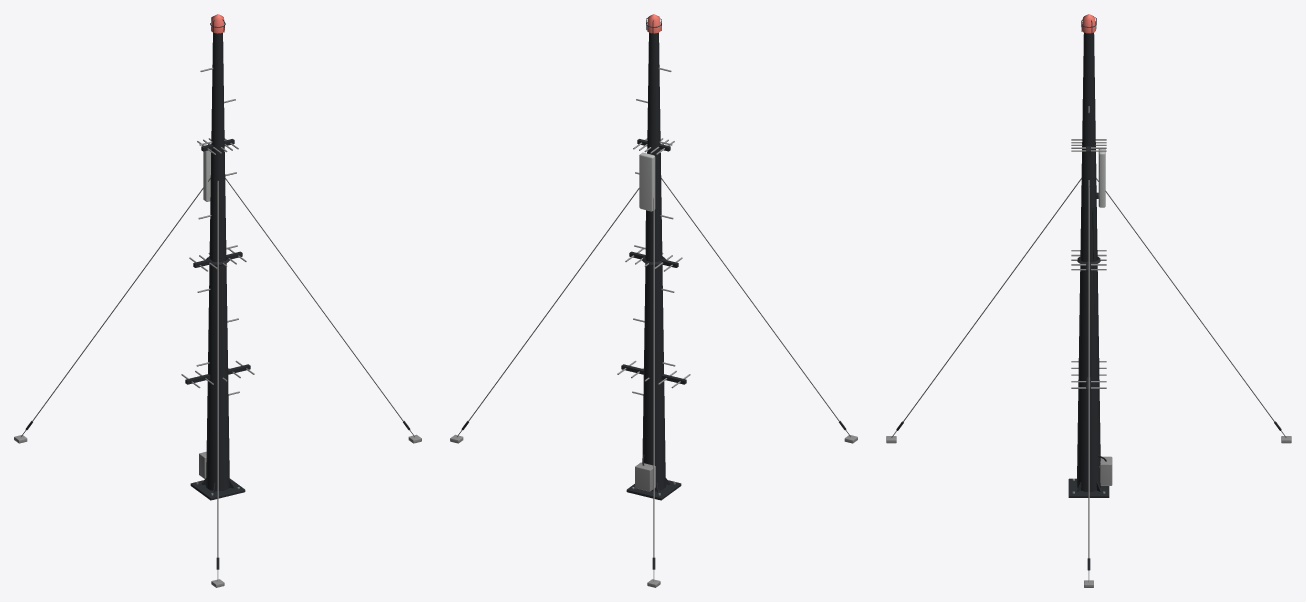
The model's file is Antenna_Mast_5m.fbx.
3 renders of one model, left to right at view 1: azimuth 30°, elevation 25°; view 2: azimuth 150°, elevation 25°; view 3: azimuth 270°, elevation 25°, orthographic.
Visible parts, largest first — view 1: Antenna_Mast_5m_LOD0; view 2: Antenna_Mast_5m_LOD0; view 3: Antenna_Mast_5m_LOD0.
Boxes of the visible parts, x1=… form: Antenna_Mast_5m_LOD0: x1=14, y1=14, x2=421, y2=587; Antenna_Mast_5m_LOD0: x1=450, y1=14, x2=857, y2=587; Antenna_Mast_5m_LOD0: x1=886, y1=14, x2=1291, y2=587.
Size of what is drawn, in the model's own units: 3.47 by 5.18 by 4.
